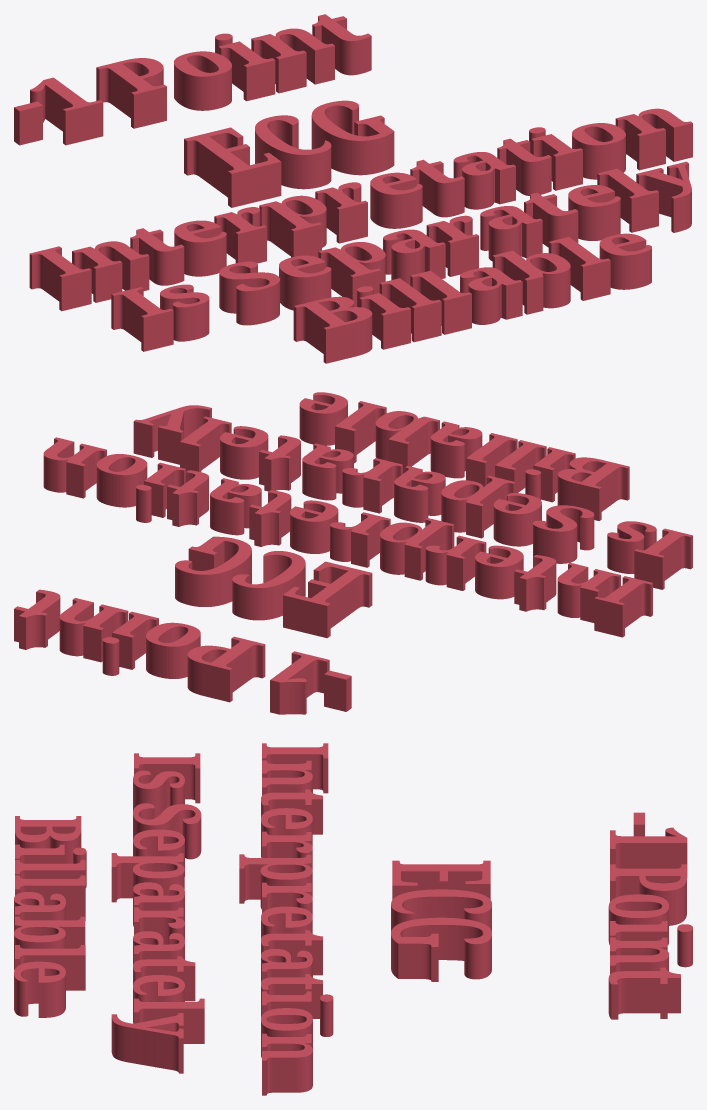
The model's file is neecg.gltf.
The picture shows the model from 3 angles, top to bottom: view 1: azimuth 30°, elevation 25°; view 2: azimuth 150°, elevation 25°; view 3: azimuth 270°, elevation 25°; orthographic projection. The views are drawn at different scales.
Parts seen in each view (by area): view 1: Mesh_Mesh_head_geo001_lambert2SG001; view 2: Mesh_Mesh_head_geo001_lambert2SG001; view 3: Mesh_Mesh_head_geo001_lambert2SG001.
Boxes of the visible parts, bbox=[...] form: Mesh_Mesh_head_geo001_lambert2SG001: bbox=[14, 14, 692, 363]; Mesh_Mesh_head_geo001_lambert2SG001: bbox=[14, 392, 692, 714]; Mesh_Mesh_head_geo001_lambert2SG001: bbox=[14, 743, 692, 1095].
Size of the model in its own units: 193 by 10 by 175.
